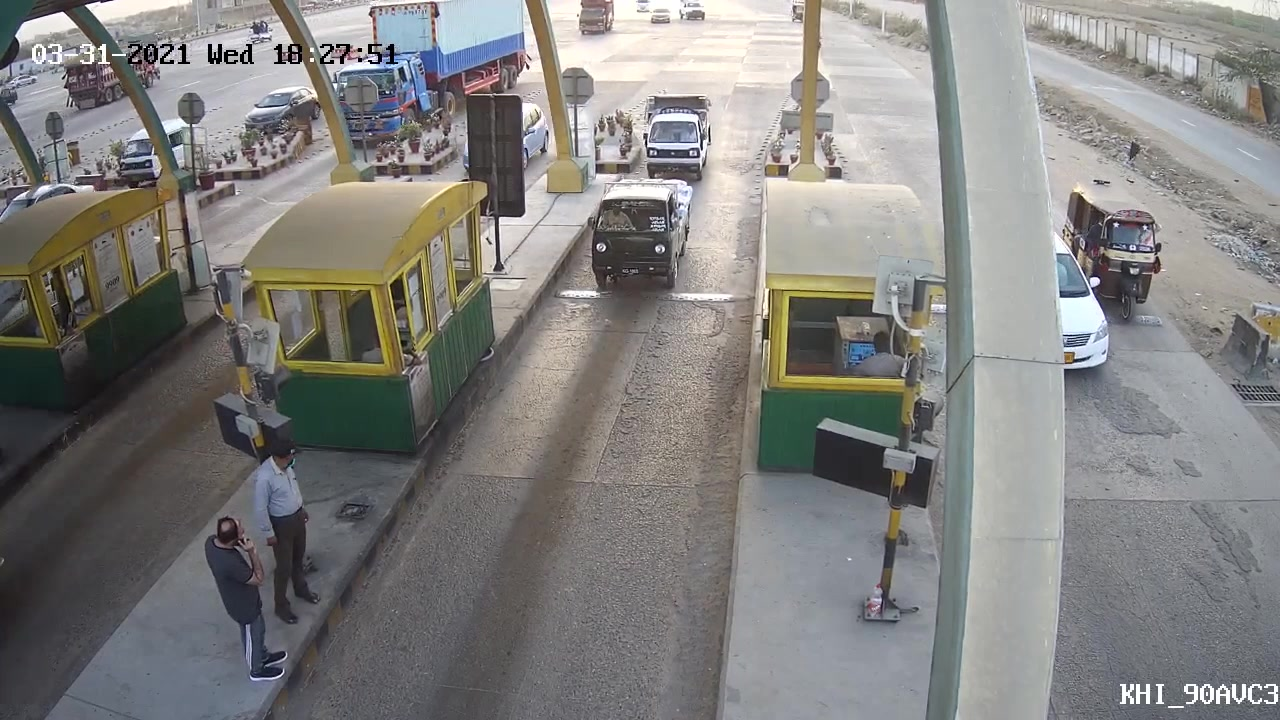F1: (576, 170, 706, 293)
